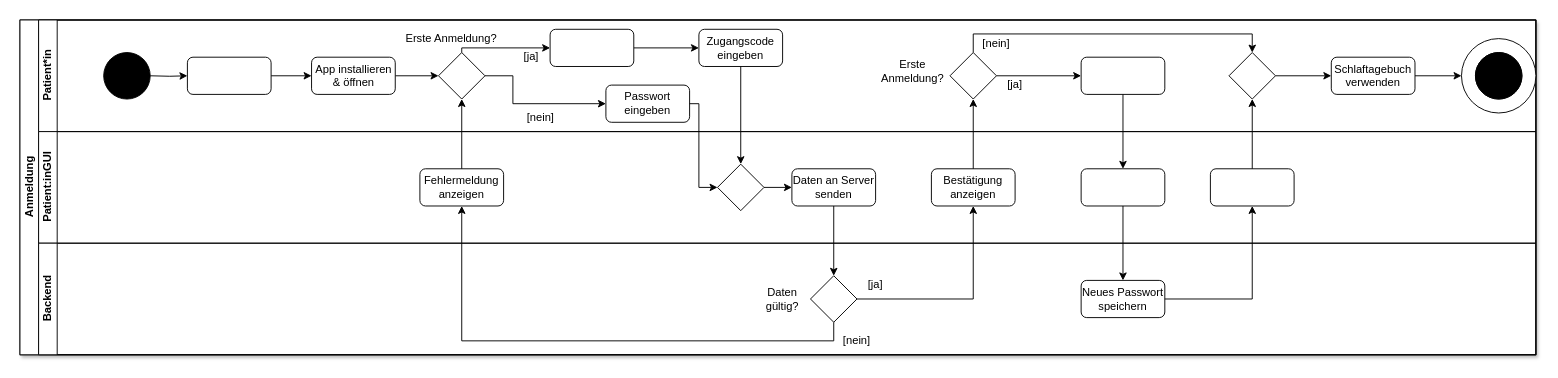
Some shapes in this 1558 by 378 pixel diagram are drawn without their labels. Each missing label, with the centre of its shape:
Benutzerkonto aktivieren: (x=1251, y=187)
Code erhalten: (x=228, y=75)
Einwilligung erteilen: (x=591, y=47)
Neues Passwort setzen: (x=1122, y=75)
Verschlüsseltes Passwort senden: (x=1122, y=187)
